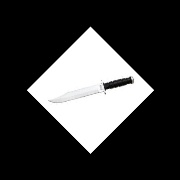k1: (47, 78, 108, 104)
